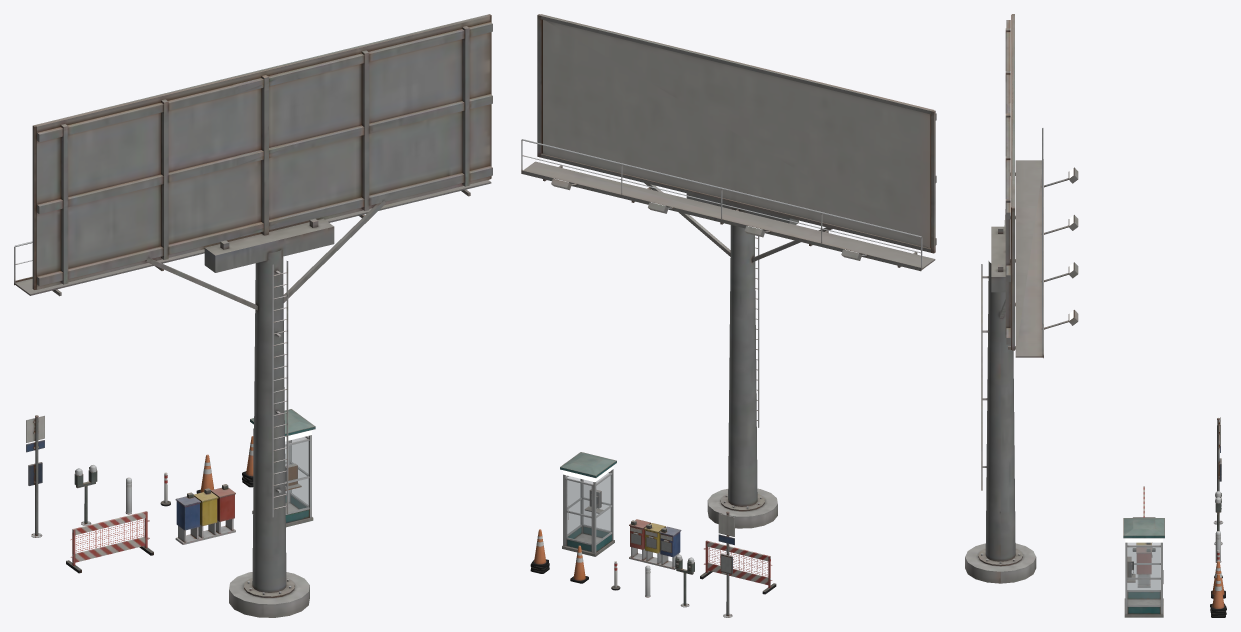
Rendered from set_roadside.glb.
3 renders of one model, left to right at view 1: azimuth 30°, elevation 25°; view 2: azimuth 150°, elevation 25°; view 3: azimuth 270°, elevation 25°, orthographic. The views are drawn at different scales.
Visible parts, largest first — view 1: billboard_monopole_lod0, phone_booth_lod0, newspaper_bank_lod0, roadworks_barrier_lod0, bus_stop_pole_lod0; view 2: billboard_monopole_lod0, phone_booth_lod0, newspaper_bank_lod0, roadworks_barrier_lod0, bus_stop_pole_lod0; view 3: billboard_monopole_lod0, phone_booth_lod0, newspaper_bank_lod0, cone_stack_lod0.
Part boxes in pixels (left/top/right/bottom): billboard_monopole_lod0: left=14, top=14, right=492, bottom=617; phone_booth_lod0: left=250, top=409, right=315, bottom=527; newspaper_bank_lod0: left=175, top=484, right=235, bottom=544; roadworks_barrier_lod0: left=66, top=511, right=153, bottom=573; bus_stop_pole_lod0: left=26, top=415, right=44, bottom=537; billboard_monopole_lod0: left=521, top=14, right=936, bottom=528; phone_booth_lod0: left=560, top=452, right=616, bottom=556; newspaper_bank_lod0: left=629, top=519, right=681, bottom=569; roadworks_barrier_lod0: left=700, top=540, right=776, bottom=594; bus_stop_pole_lod0: left=718, top=511, right=734, bottom=617; billboard_monopole_lod0: left=965, top=14, right=1078, bottom=583; phone_booth_lod0: left=1123, top=518, right=1164, bottom=617; newspaper_bank_lod0: left=1136, top=542, right=1152, bottom=587; cone_stack_lod0: left=1210, top=574, right=1226, bottom=617.
Size of what is drawn, in the model's own units: 12.43 by 13.5 by 7.
Materials: 5 (4 with a texture image).
